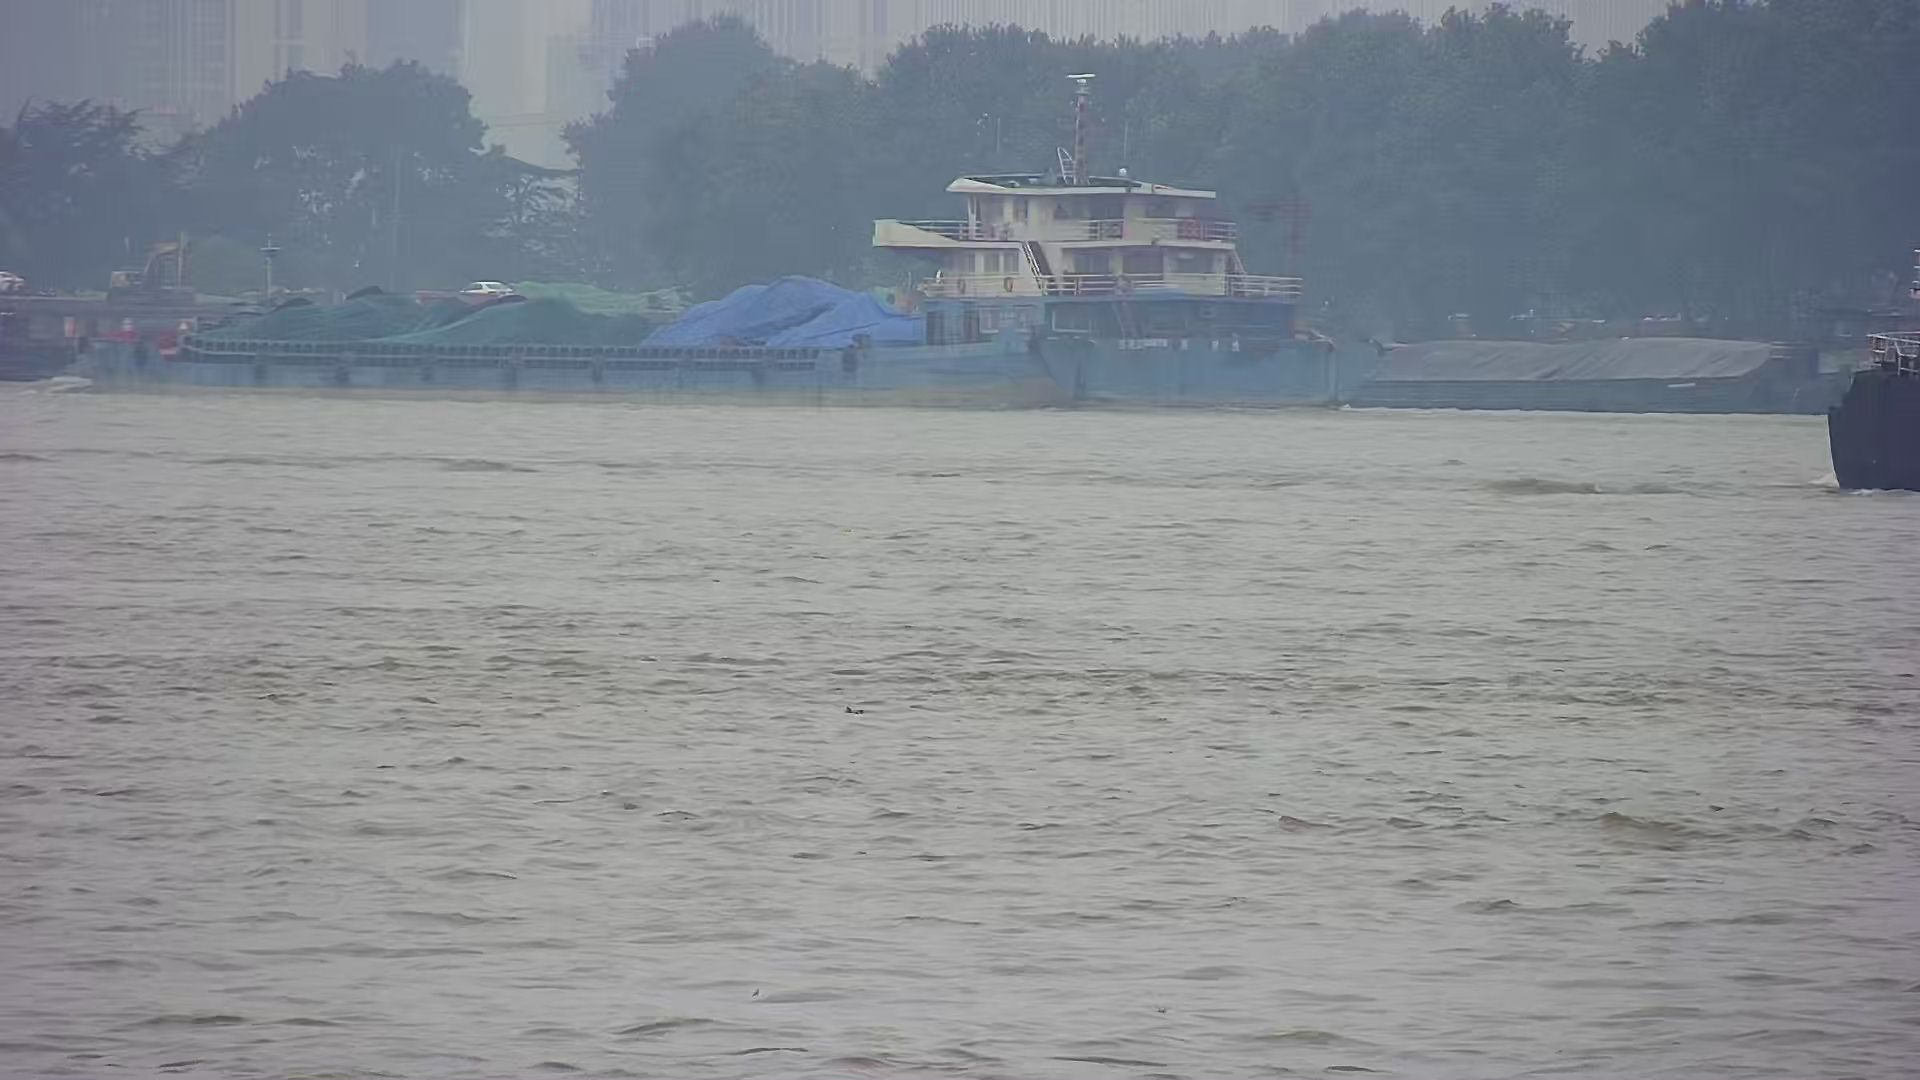ship: (61, 55, 1394, 411)
